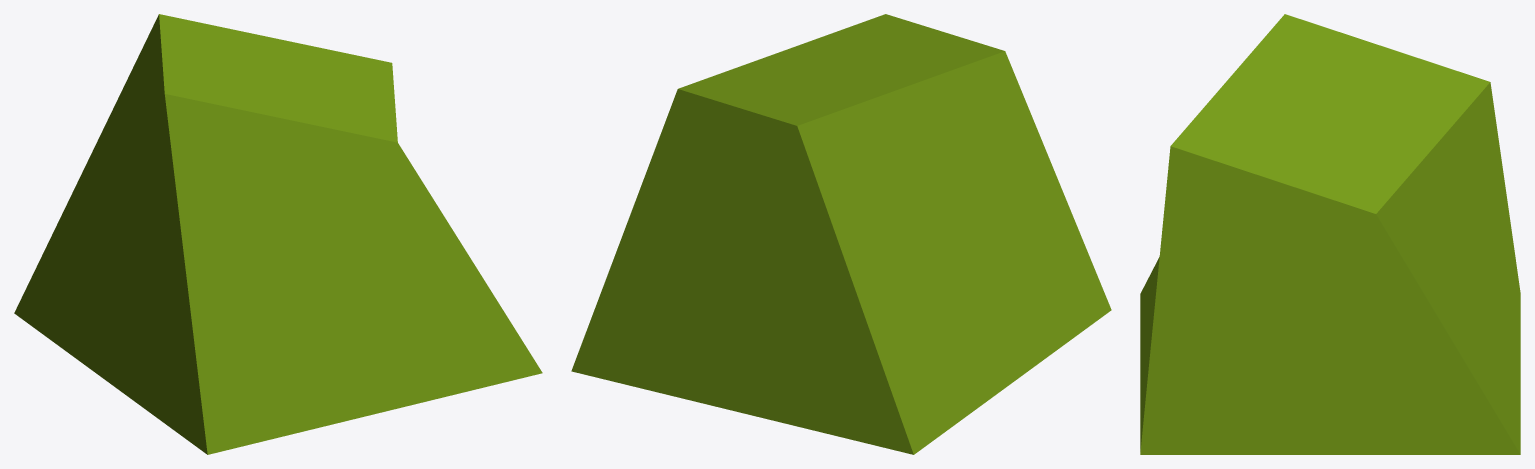
Rendered from tree-summer-leaves-014.glb.
The picture shows the model from 3 angles, left to right: view 1: azimuth 30°, elevation 25°; view 2: azimuth 150°, elevation 25°; view 3: azimuth 270°, elevation 25°; orthographic projection. The views are drawn at different scales.
Parts seen in each view (by area): view 1: Cube.006_238; view 2: Cube.006_238; view 3: Cube.006_238.
Part boxes in pixels (box(x1,y1,x2,y2)): Cube.006_238: box(14, 14, 542, 454); Cube.006_238: box(571, 14, 1111, 454); Cube.006_238: box(1140, 14, 1520, 454).
Size of the model in its own units: 0.6335 by 0.5416 by 0.6335.
